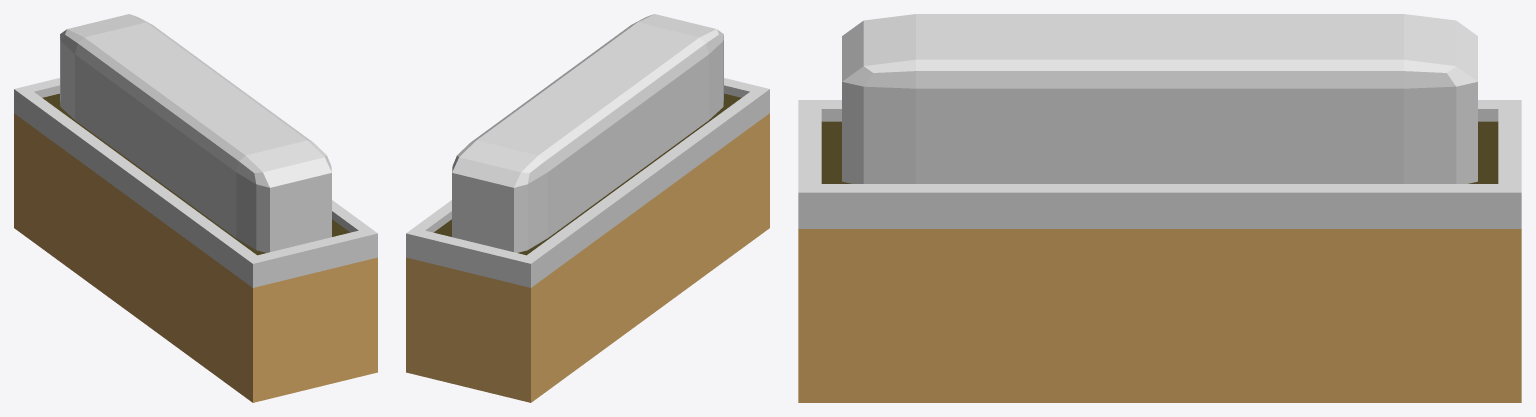
Rendered from Cafe bush.fbx.
3 views of the same model, side by side, from view 1: azimuth 30°, elevation 25°; view 2: azimuth 150°, elevation 25°; view 3: azimuth 270°, elevation 25° (orthographic). The views are drawn at different scales.
Parts seen in each view (by area): view 1: Cube, Cube.001; view 2: Cube, Cube.001; view 3: Cube, Cube.001.
Part boxes in pixels (<box>): Cube: <box>14,78,377,402</box>; Cube.001: <box>60,14,331,252</box>; Cube: <box>406,78,769,402</box>; Cube.001: <box>452,14,723,252</box>; Cube: <box>798,100,1521,402</box>; Cube.001: <box>842,14,1477,183</box>.
Bounding box in the file's own units: 200 × 323 × 662.
